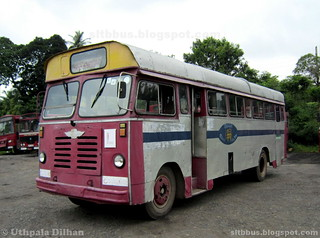bus: (35, 41, 286, 220), (17, 113, 41, 155), (1, 113, 17, 155)
